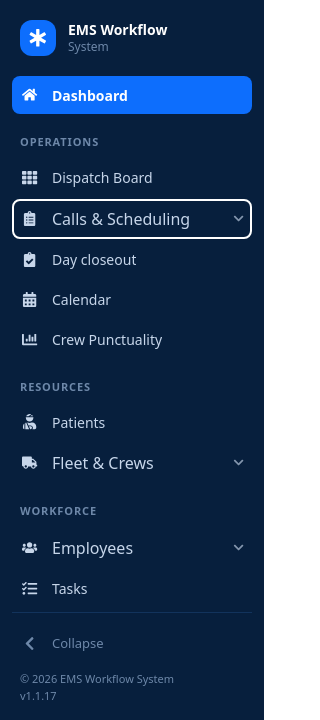
Sidebar hubs (two-level navigation) › is operable from the keyboard because it is a real button
Click the button "Calls & Scheduling".
click(132, 218)  # box [12,198,252,238]
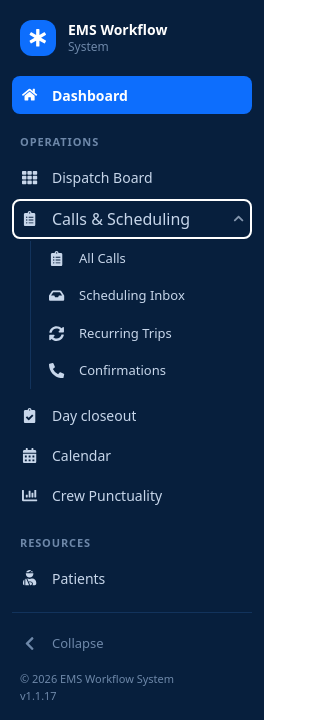
Now the button "Calls & Scheduling" is expanded, box [12,198,252,238]
